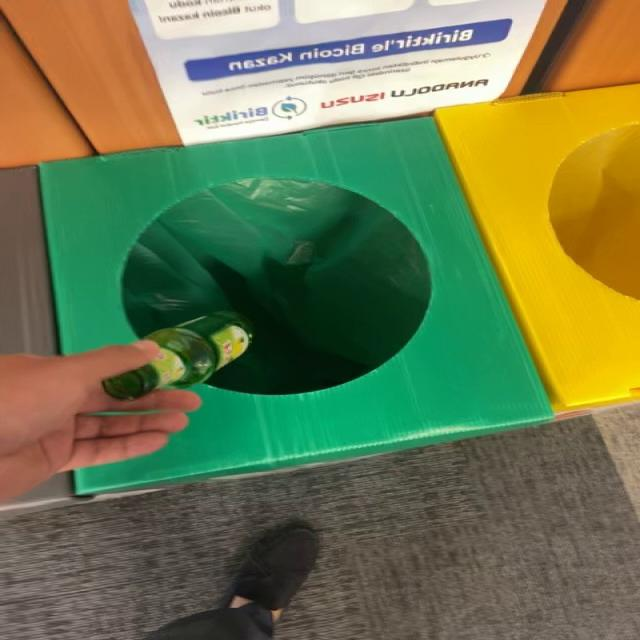glass: (101, 312, 252, 400)
